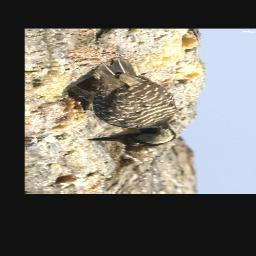Woodpecker: (64, 55, 179, 149)
